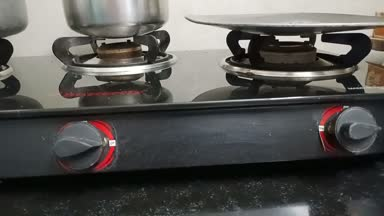flame_gas_off: (247, 34, 383, 158), (56, 34, 151, 174)
